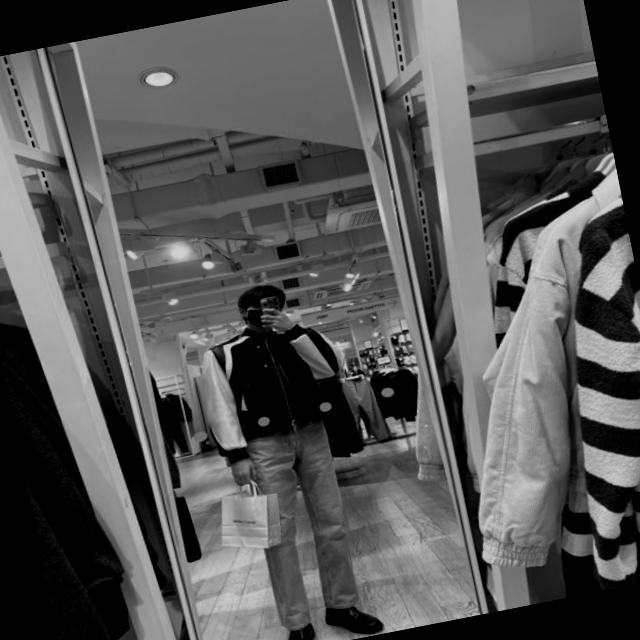denimpants: (240, 410, 365, 628)
jacket: (192, 316, 356, 472)
